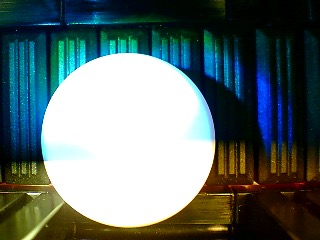BLANK: (40, 53, 216, 228)
